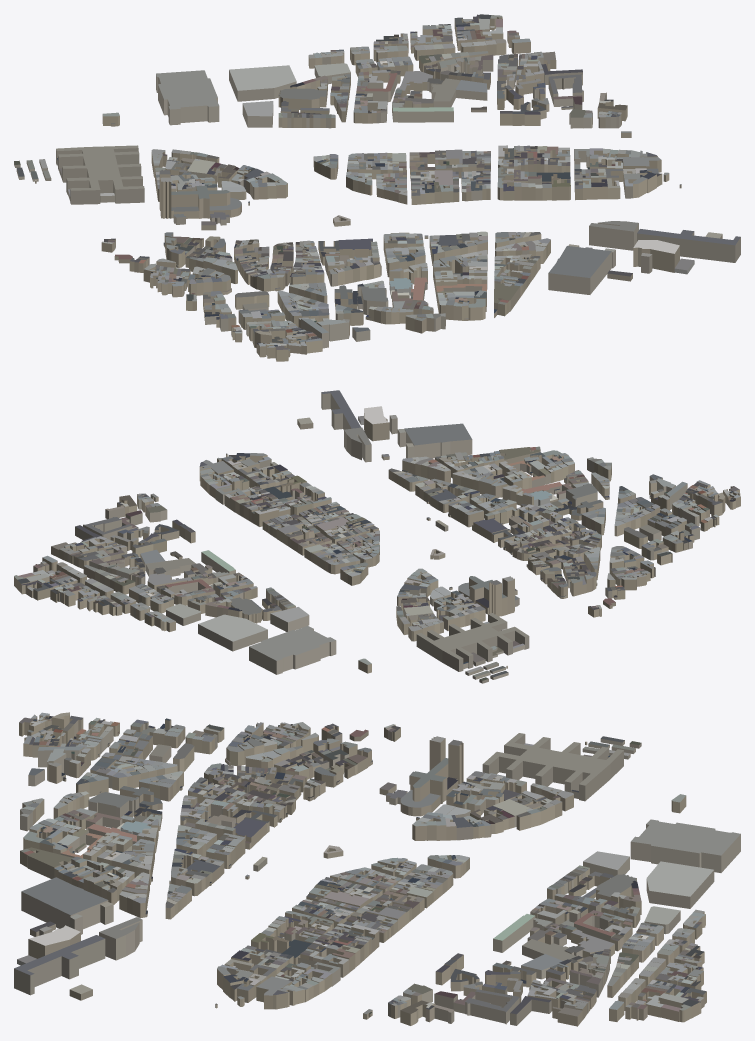
3 renders of one model, top to bottom at view 1: azimuth 30°, elevation 25°; view 2: azimuth 150°, elevation 25°; view 3: azimuth 270°, elevation 25°, orthographic. The views are drawn at different scales.
Parts seen in each view (by area): view 1: tuile; view 2: tuile; view 3: tuile.
Part boxes in pixels (bbox=[...]): tuile: bbox=[14, 14, 740, 361]; tuile: bbox=[14, 390, 740, 683]; tuile: bbox=[14, 712, 740, 1026].
Size of the model in its own units: 1026 by 74.6 by 1076.
